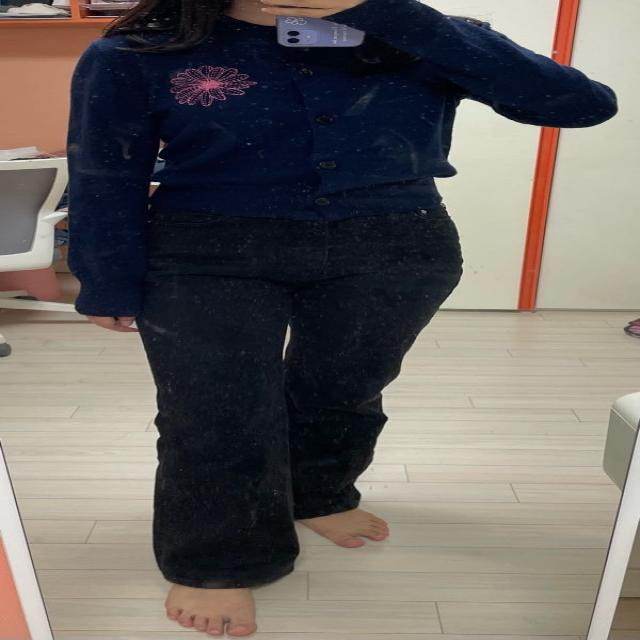cardigan: (64, 0, 610, 322)
denimpants: (126, 180, 463, 590)
